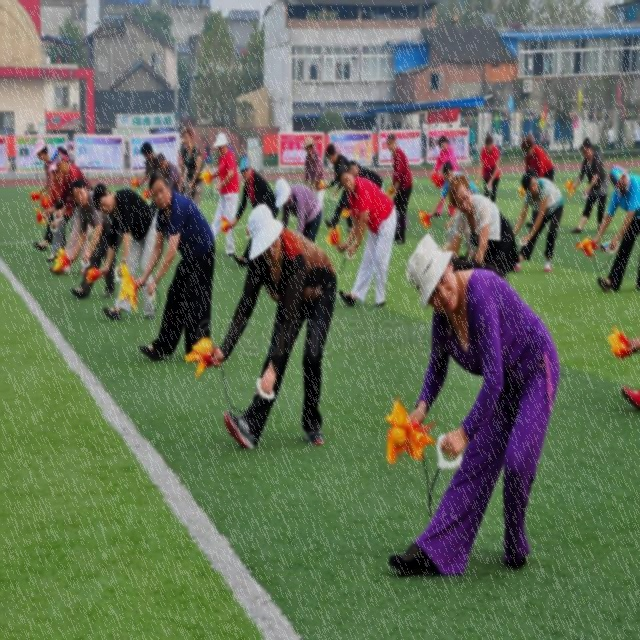pessoa: (383, 230, 562, 581), (180, 199, 338, 455), (136, 165, 216, 366), (90, 182, 158, 322), (336, 162, 399, 310), (442, 174, 520, 282), (66, 176, 124, 302), (218, 152, 280, 268), (590, 161, 640, 295), (511, 166, 565, 275), (196, 128, 240, 258), (46, 146, 94, 264), (425, 160, 480, 249), (42, 154, 80, 264), (570, 136, 609, 235), (383, 132, 416, 246), (518, 135, 556, 230), (274, 176, 324, 246), (606, 320, 640, 414), (324, 142, 354, 236), (30, 136, 54, 252), (430, 135, 460, 219), (176, 126, 204, 212), (302, 135, 328, 224), (473, 128, 502, 204), (347, 158, 385, 192), (136, 140, 158, 189), (155, 151, 181, 191), (282, 138, 308, 164), (202, 138, 214, 172), (606, 121, 616, 151), (131, 142, 143, 166), (18, 145, 30, 166), (632, 122, 639, 156), (77, 145, 88, 166), (543, 129, 551, 155), (227, 140, 234, 169), (358, 138, 369, 156), (497, 128, 504, 156), (489, 126, 498, 146), (568, 128, 575, 152), (512, 128, 520, 148), (538, 128, 545, 146), (528, 129, 534, 145)
